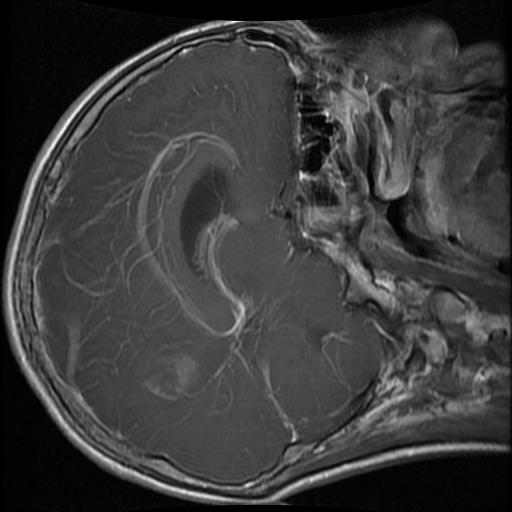glioma: (139, 353, 196, 403)
